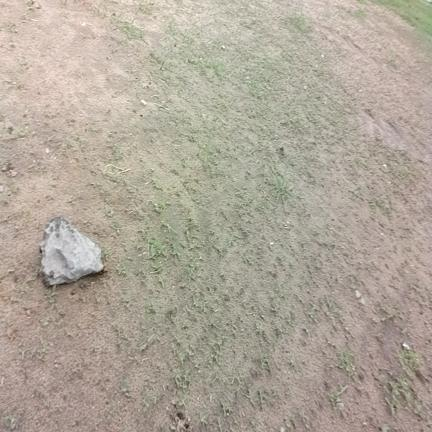Rock: (40, 217, 103, 285)
